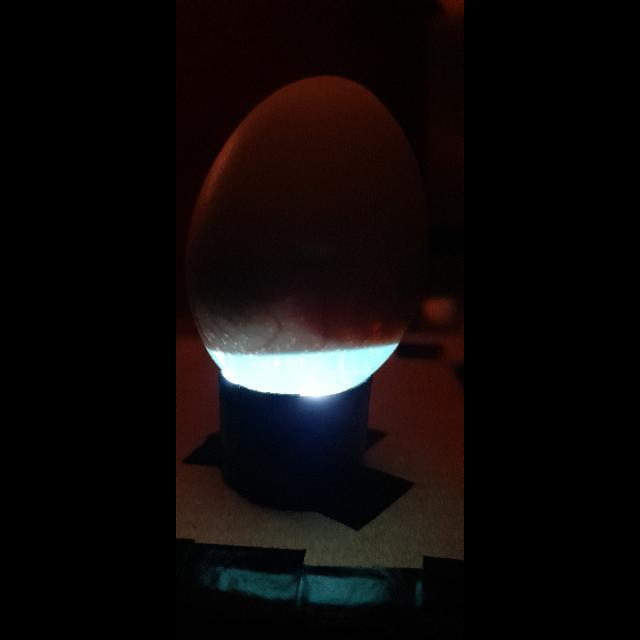Fertile: (188, 66, 420, 398)
